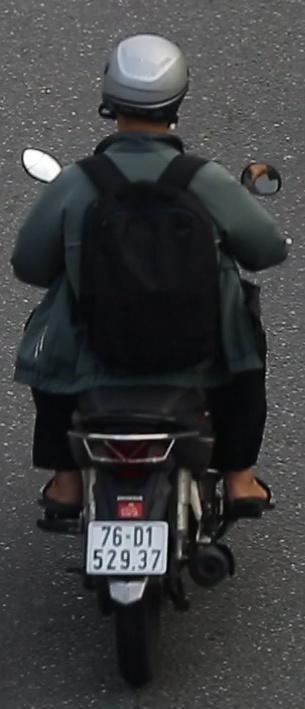LP: (84, 514, 171, 580)
helmet: (92, 27, 193, 150)
